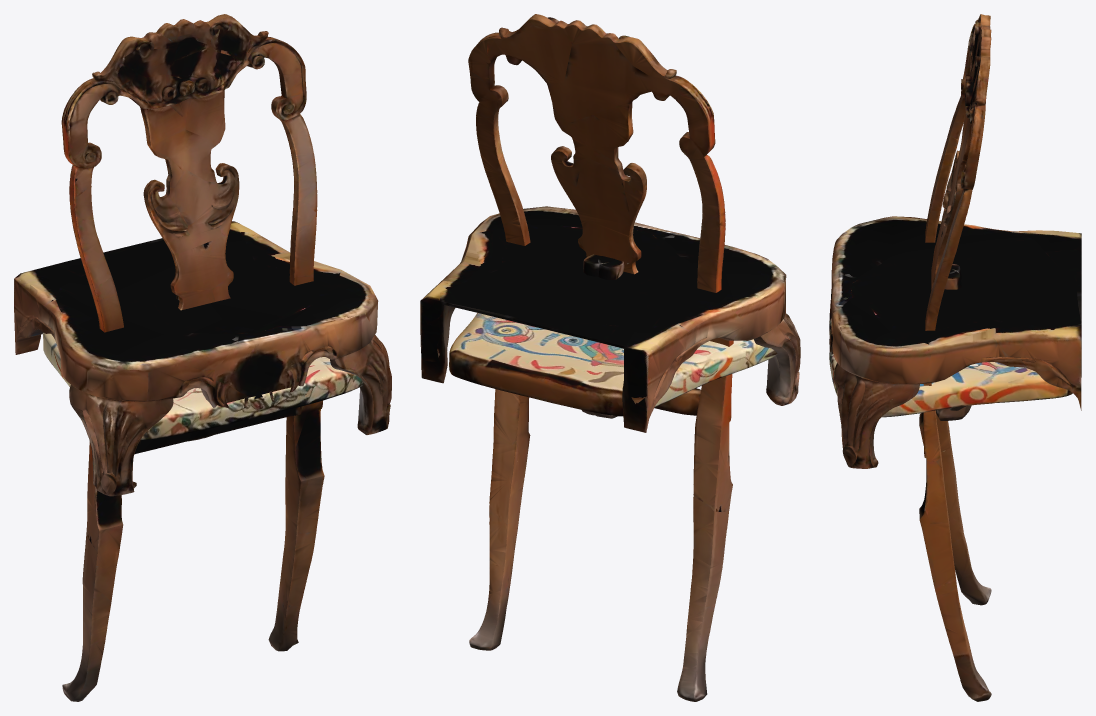
The picture shows the model from 3 angles, left to right: view 1: azimuth 30°, elevation 25°; view 2: azimuth 150°, elevation 25°; view 3: azimuth 270°, elevation 25°; orthographic projection. The views are drawn at different scales.
Parts seen in each view (by area): view 1: root.0.1, root.0.0, root.1; view 2: root.0.1, root.0.0, root.1; view 3: root.0.0, root.0.1, root.1, root.3.
Part boxes in pixels (x1,y1,x2,y2): root.0.1: (61, 14, 324, 701); root.0.0: (14, 221, 391, 496); root.1: (43, 332, 364, 439); root.0.1: (468, 14, 733, 701); root.0.0: (420, 206, 800, 432); root.1: (449, 313, 777, 416); root.0.0: (829, 216, 1081, 468); root.0.1: (919, 14, 991, 701); root.1: (829, 318, 1081, 417); root.3: (935, 268, 971, 420).
Bounding box in the file's own units: 20197 × 42074 × 15585.
1 material, 1 textured.
